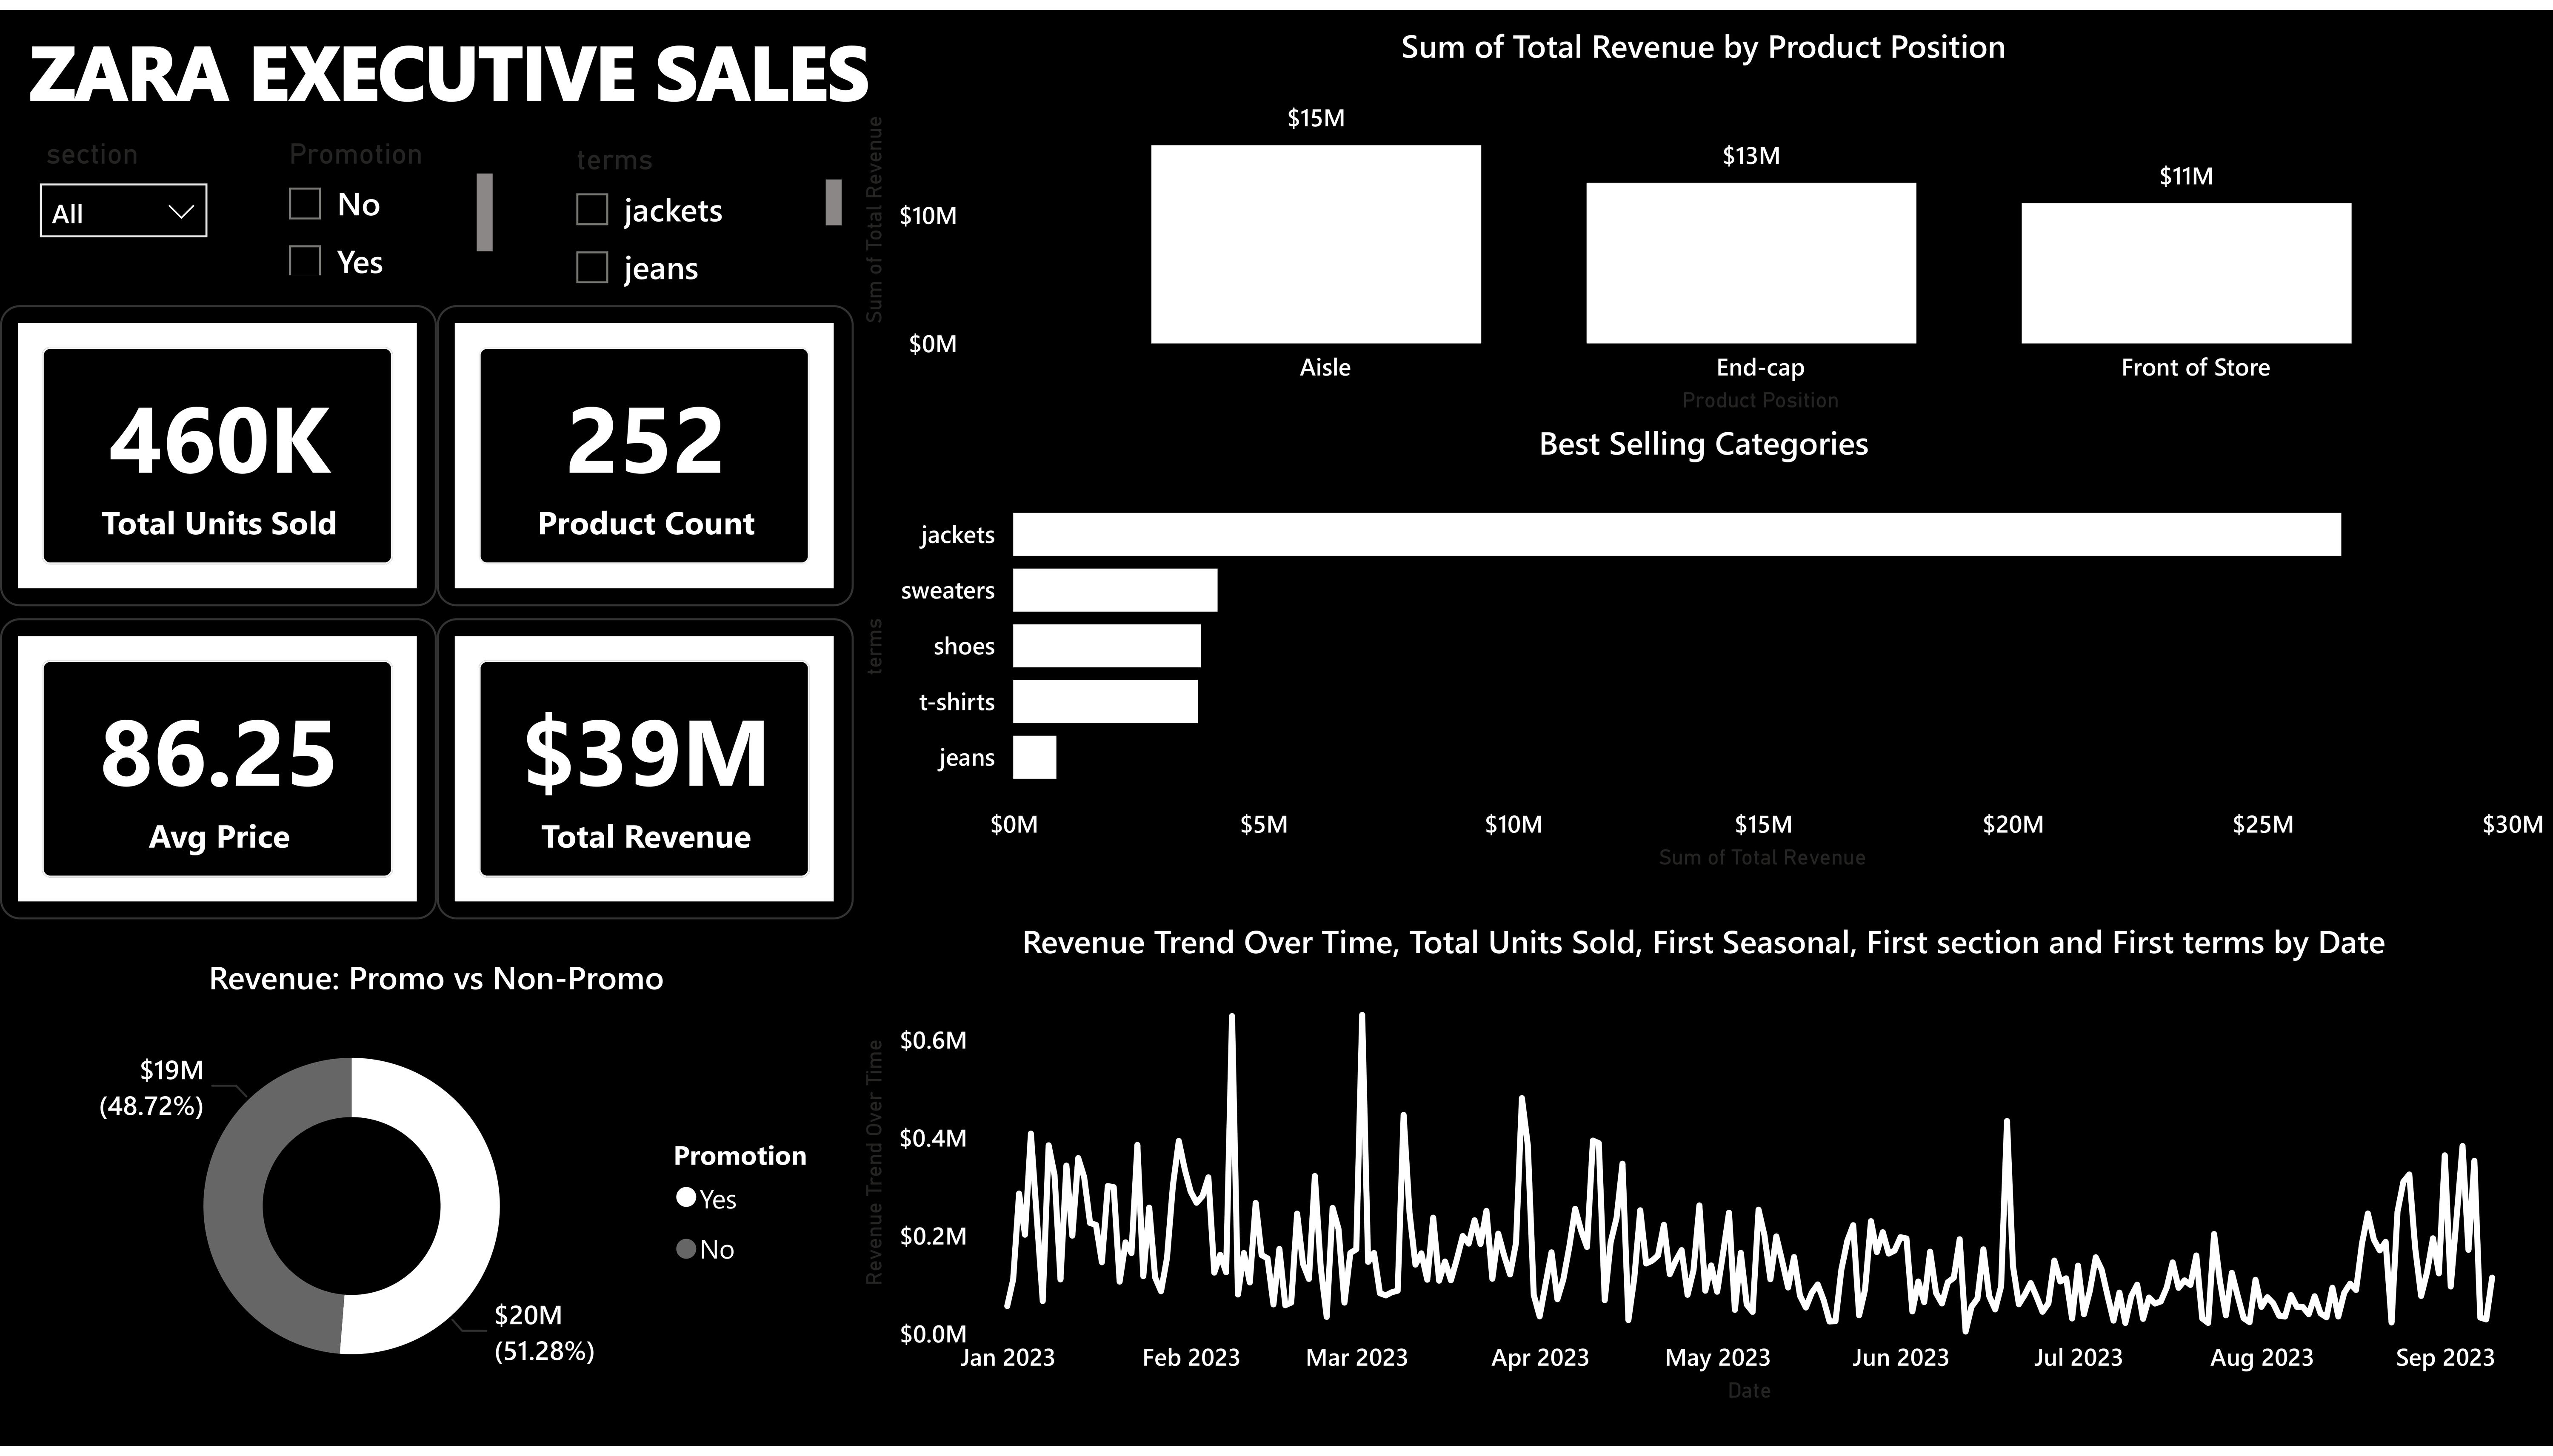

The page's visual inventory and layout, read from the dashboard file:
{"tool":"powerbi","page":{"name":"Page 1","canvas":[1280,720],"ordinal":0},"visuals":[{"type":"textbox","box":[10.1,0,440.6,59],"z":0},{"type":"slicer","fields":{"Values":["zara.section"]},"box":[10.1,59,103.7,79.2],"z":1000},{"type":"slicer","fields":{"Values":["zara.terms"]},"box":[276.5,61.9,151.2,86.4],"z":2000},{"type":"slicer","fields":{"Values":["zara.Promotion"]},"box":[132.5,59,119.5,79.2],"z":3000},{"type":"cardVisual","fields":{"Data":["Sum(zara.Total Revenue)"]},"box":[218.9,305.3,208.8,151.2],"z":4000},{"type":"cardVisual","fields":{"Data":["zara.Total Units Sold"]},"box":[0,148.3,218.9,151.2],"z":5000},{"type":"cardVisual","fields":{"Data":["zara.Avg Price"]},"box":[0,305.3,218.9,151.2],"z":6000},{"type":"cardVisual","fields":{"Data":["zara.Product Count"]},"box":[218.9,148.3,208.8,151.2],"z":7000},{"type":"lineChart","fields":{"Category":["Calendar.Date"],"Y":["Sum(zara.Total Revenue)"]},"box":[427.7,456.5,852.5,246.2],"z":8000},{"type":"clusteredBarChart","title":" Best Selling Categories","fields":{"Category":["zara.terms"],"Y":["Sum(zara.Total Revenue)"]},"box":[427.7,205.9,852.5,229],"z":9000},{"type":"donutChart","title":" Revenue: Promo vs Non-Promo","fields":{"Category":["zara.Promotion"],"Y":["Sum(zara.Total Revenue)"]},"box":[10.1,473.8,417.6,229],"z":10000},{"type":"clusteredColumnChart","fields":{"Category":["zara.Product Position"],"Y":["Sum(zara.Total Revenue)"]},"box":[427.7,7.2,852.5,198.7],"z":11000}]}

Visuals, with their boxes in screenshot pixels (x1, y1, x2, y2), scaled from the page's 1280x720 canvas onto the 2553x1456 screenshot:
textbox: [20, 0, 899, 119]
slicer - zara.section: [20, 119, 227, 279]
slicer - zara.terms: [551, 125, 853, 300]
slicer - zara.Promotion: [264, 119, 503, 279]
cardVisual - Sum(zara.Total Revenue): [437, 617, 853, 923]
cardVisual - zara.Total Units Sold: [0, 300, 437, 606]
cardVisual - zara.Avg Price: [0, 617, 437, 923]
cardVisual - zara.Product Count: [437, 300, 853, 606]
lineChart - Calendar.Date x Sum(zara.Total Revenue): [853, 923, 2553, 1421]
" Best Selling Categories" clusteredBarChart: [853, 416, 2553, 880]
" Revenue: Promo vs Non-Promo" donutChart: [20, 958, 853, 1421]
clusteredColumnChart - zara.Product Position x Sum(zara.Total Revenue): [853, 14, 2553, 416]
